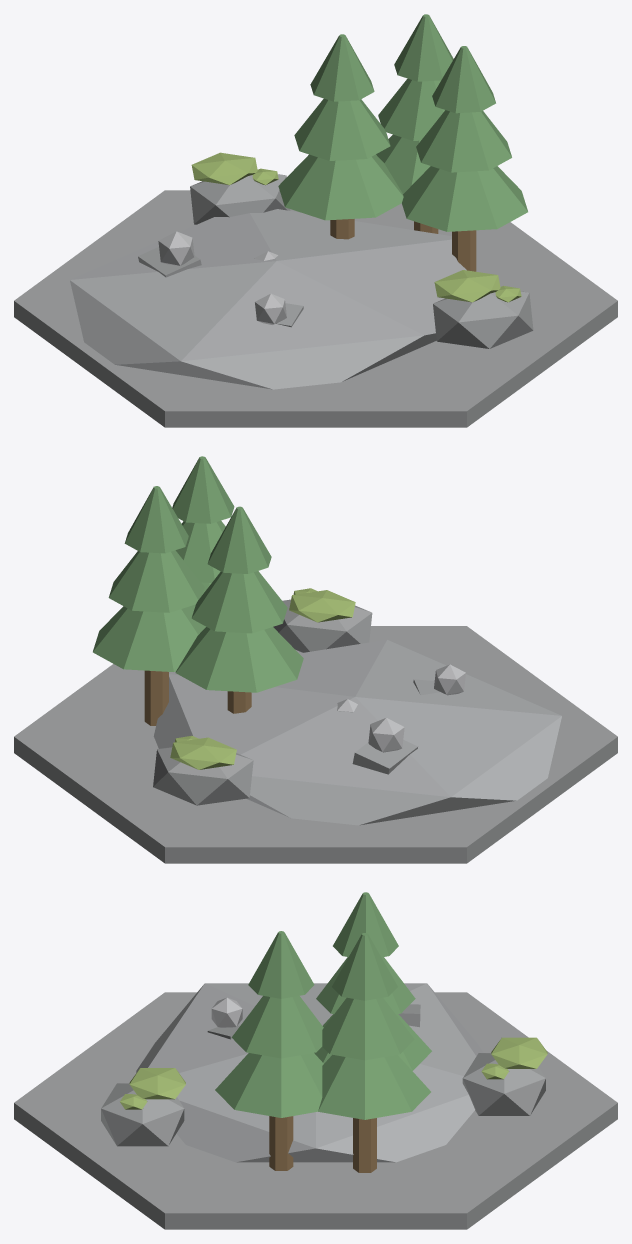
The model's file is mountain_to_forest.glb.
3 renders of one model, top to bottom at view 1: azimuth 30°, elevation 25°; view 2: azimuth 150°, elevation 25°; view 3: azimuth 270°, elevation 25°, orthographic.
Parts seen in each view (by area): view 1: plate; view 2: plate; view 3: plate.
Part boxes in pixels (x1,y1,x2,y2): plate: (14, 14, 617, 427); plate: (14, 456, 617, 863); plate: (14, 892, 617, 1229).
Size of the model in its own units: 1.73 by 0.976 by 2.
